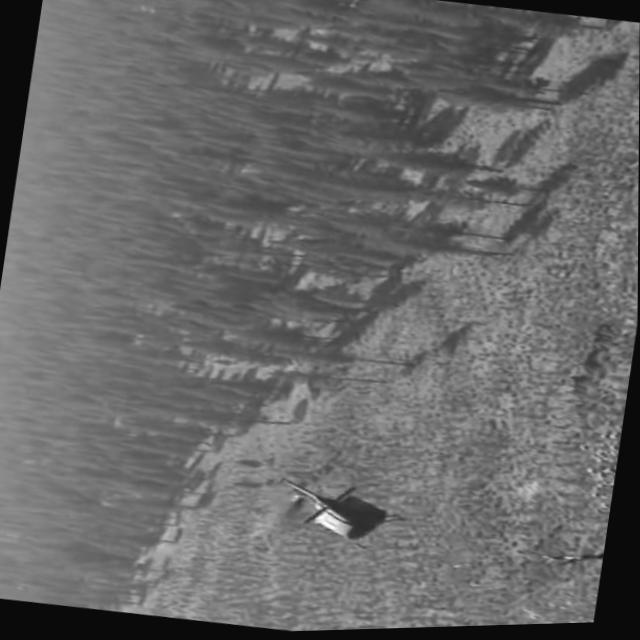helikopter: (259, 455, 411, 566)
